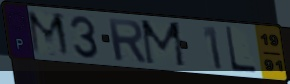1: (202, 25, 224, 71)
3: (68, 14, 102, 61)
L: (223, 25, 259, 76)
M: (24, 8, 74, 60), (139, 18, 189, 70)
R: (105, 16, 149, 64)
